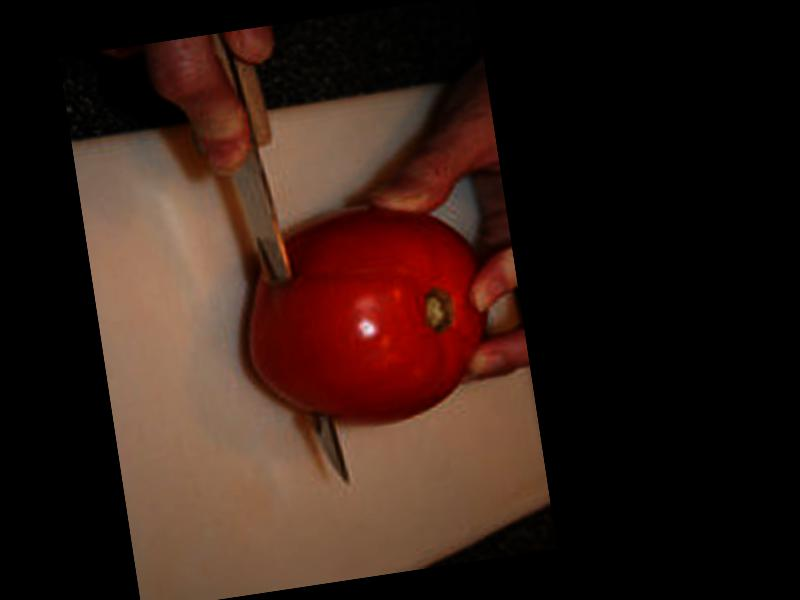Tomato: (231, 194, 503, 443)
